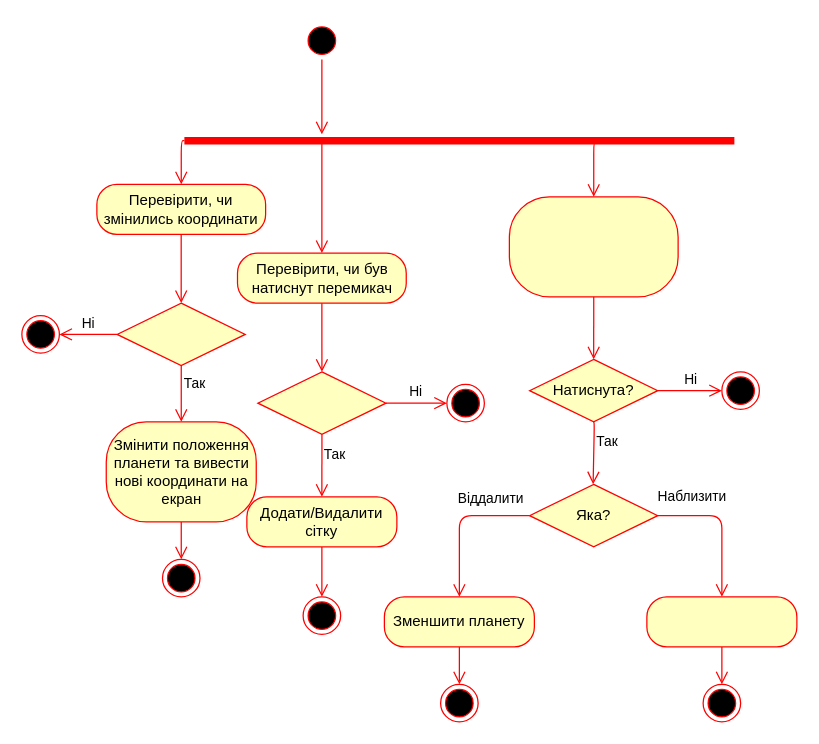
Some shapes in this 819 by 744 pixel diagram are drawn without their labels. The centre of each missing label's shape, as x and y in pixels:
Збільшити планету: [721,621]
Змінились?: [180,334]
Натиснут?: [321,402]
Перевірити, чи була натиснута кнопка "Наблизити" чи "Віддалити": [593,246]
